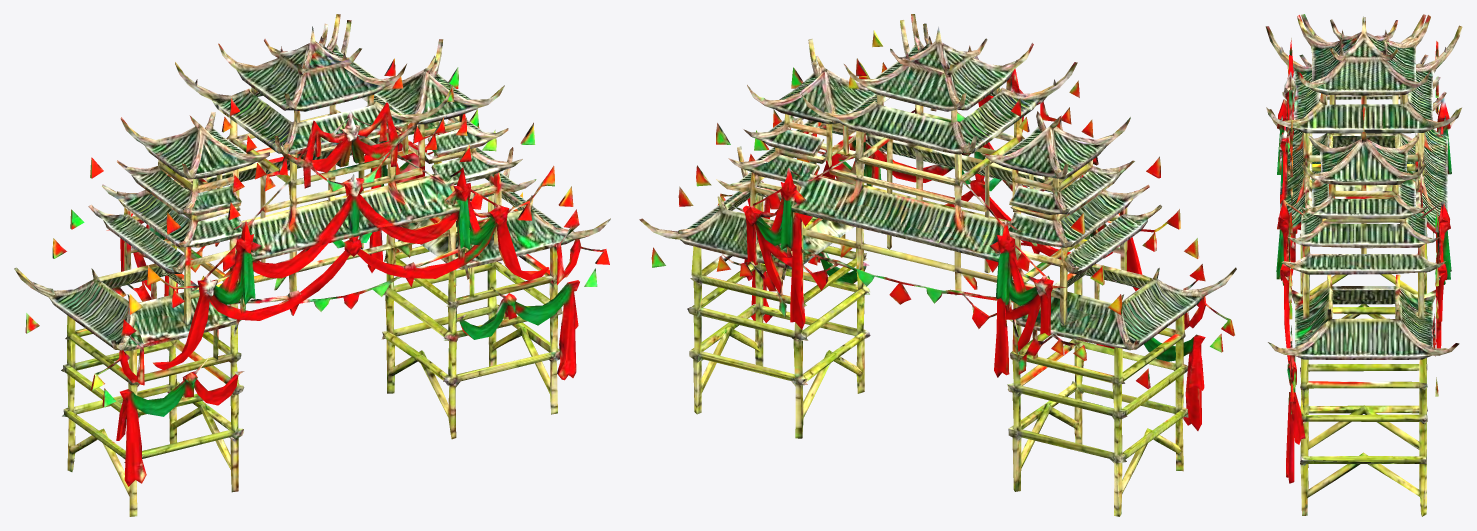
Rendered from qm_cailou_lo.glb.
3 views of the same model, side by side, from view 1: azimuth 30°, elevation 25°; view 2: azimuth 150°, elevation 25°; view 3: azimuth 270°, elevation 25° (orthographic). The views are drawn at different scales.
Parts seen in each view (by area): view 1: qm_cailou; view 2: qm_cailou; view 3: qm_cailou.
Part boxes in pixels (left/top/right/bottom): qm_cailou: left=14, top=14, right=610, bottom=516; qm_cailou: left=639, top=14, right=1236, bottom=516; qm_cailou: left=1265, top=14, right=1462, bottom=516.
Size of the model in its own units: 9.09 by 7 by 3.12.
Materials: 1 (1 with a texture image).
